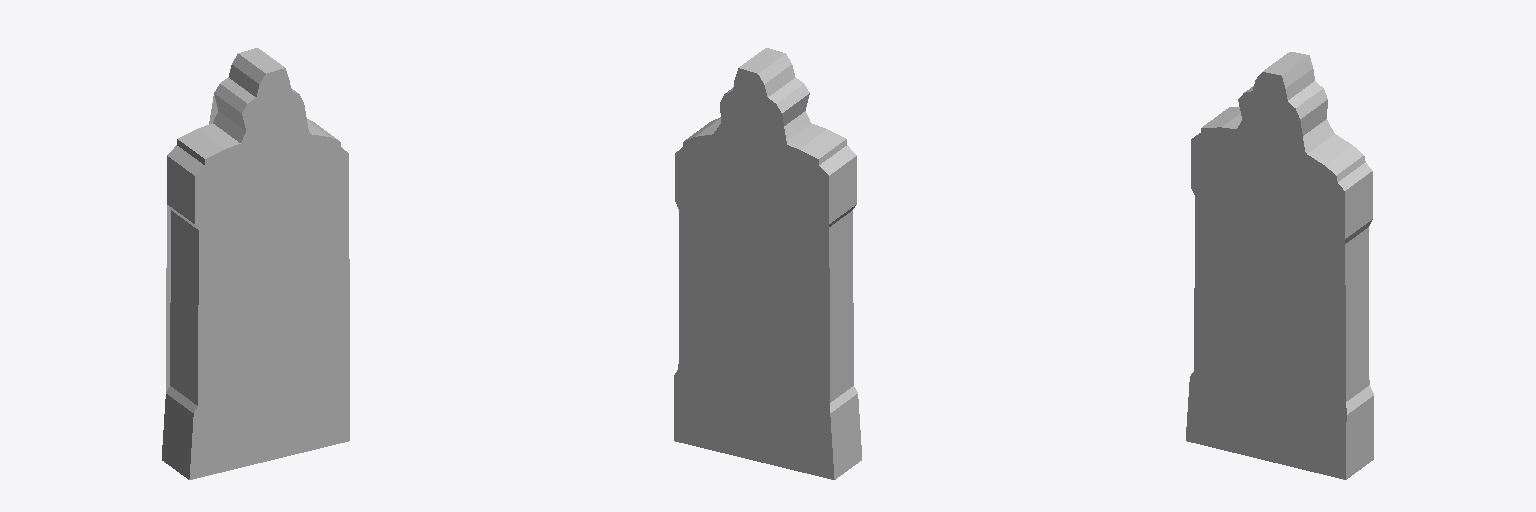
File: tomb2.obj
3 views of the same model, side by side, from view 1: azimuth 30°, elevation 25°; view 2: azimuth 150°, elevation 25°; view 3: azimuth 330°, elevation 25° (orthographic).
Visible parts, largest first — view 1: Cube; view 2: Cube; view 3: Cube.
Part boxes in pixels (left/top/right/bottom): Cube: left=162, top=48, right=349, bottom=479; Cube: left=674, top=48, right=861, bottom=479; Cube: left=1186, top=52, right=1373, bottom=479.
Bounding box in the file's own units: 1.73 × 3.99 × 0.5183.